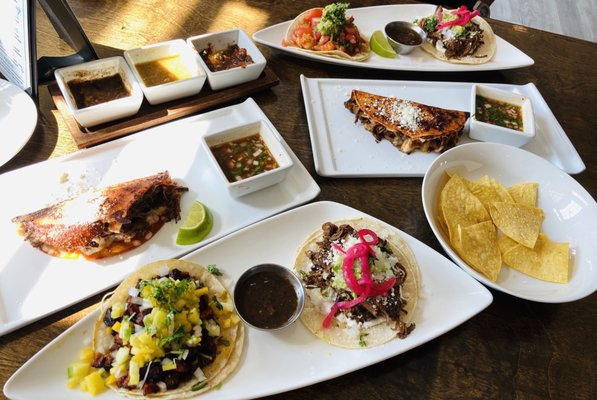sushi: (420, 141, 597, 306), (91, 259, 249, 396), (186, 28, 267, 91), (234, 263, 306, 331), (467, 83, 536, 148), (384, 20, 425, 56)
